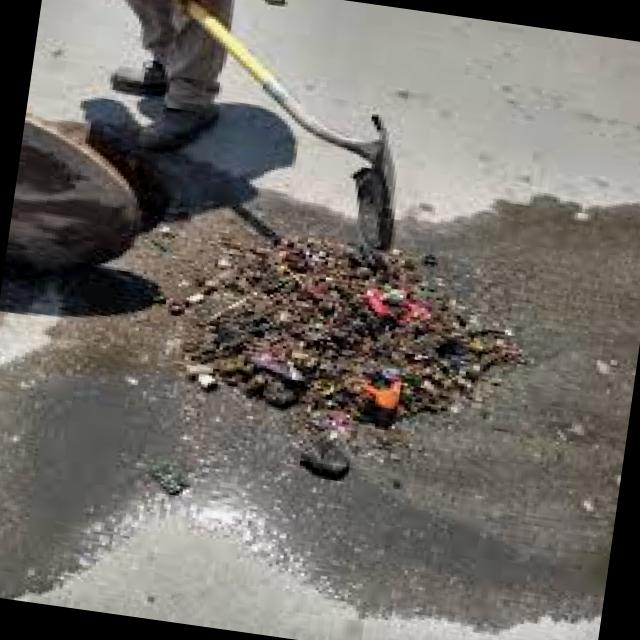garbage: (138, 215, 570, 500)
